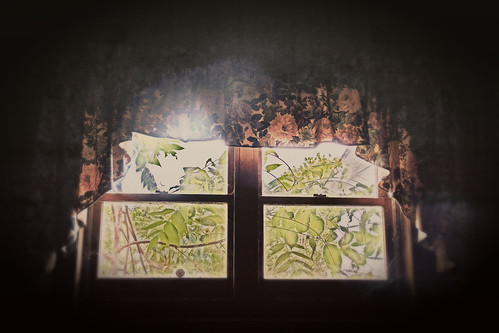window: (94, 53, 378, 281)
